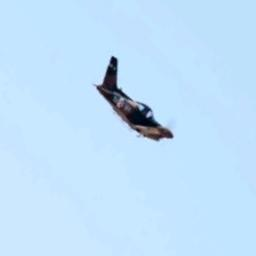Airplane: (95, 55, 174, 142)
